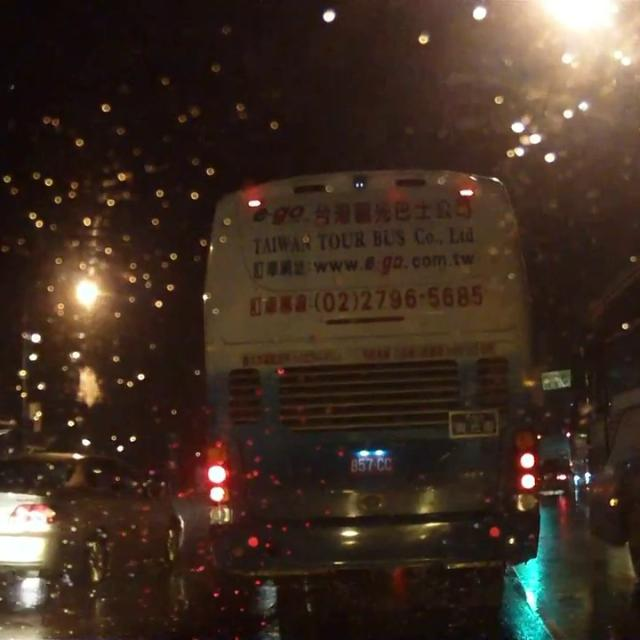Car: (0, 451, 186, 584), (528, 454, 572, 496)
